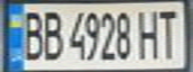2: (100, 7, 118, 61)
4: (63, 7, 84, 61)
8: (115, 7, 136, 61)
9: (81, 7, 100, 61)
B: (18, 6, 45, 62), (39, 7, 66, 62)
H: (136, 6, 163, 61)
T: (154, 4, 184, 60)
